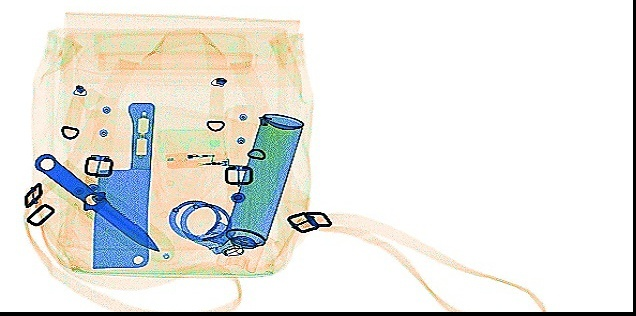handcuffs: (165, 197, 244, 257)
knife: (32, 151, 175, 265), (86, 100, 154, 270)
lighter: (163, 148, 230, 171)
pressure: (215, 110, 304, 273)
